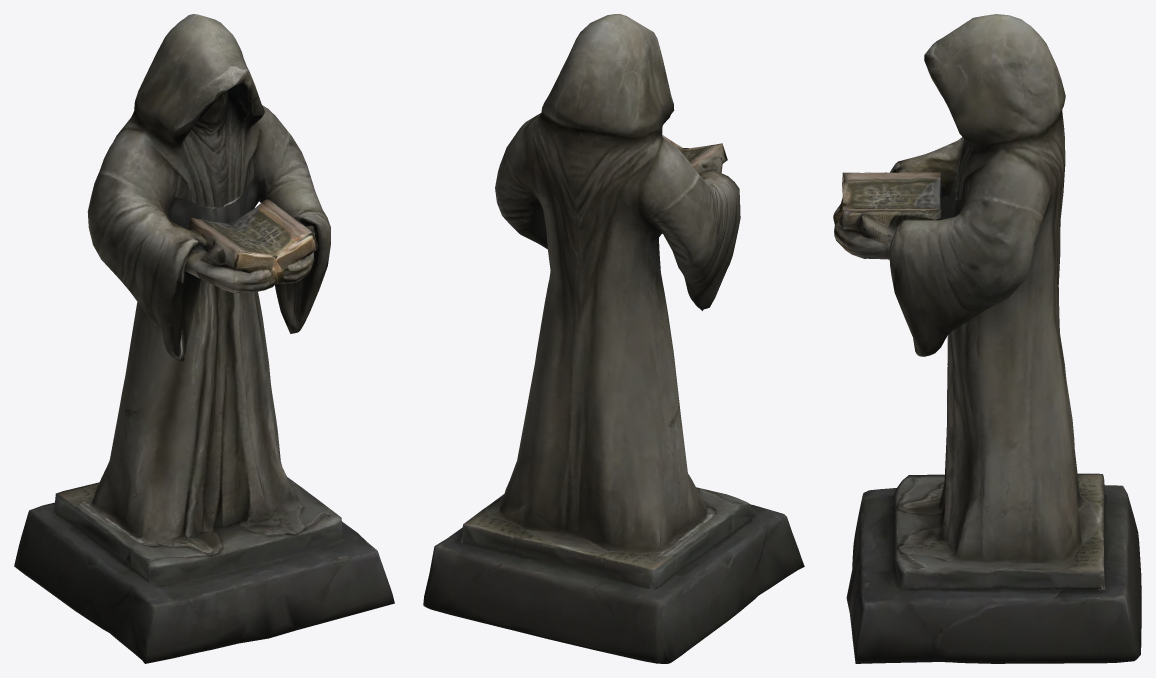
File: statue.glb
3 views of the same model, side by side, from view 1: azimuth 30°, elevation 25°; view 2: azimuth 150°, elevation 25°; view 3: azimuth 270°, elevation 25° (orthographic). The views are drawn at different scales.
Size of the model in its own units: 0.9211 by 1.99 by 0.9513.
1 material, 1 textured.
